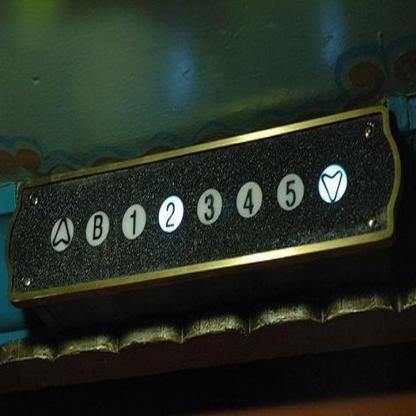1: (122, 203, 146, 239)
2: (158, 194, 183, 231)
3: (197, 187, 223, 225)
4: (236, 181, 262, 217)
5: (275, 174, 304, 212)
B: (85, 209, 109, 245)
down: (317, 163, 347, 204)
up: (49, 216, 74, 250)
